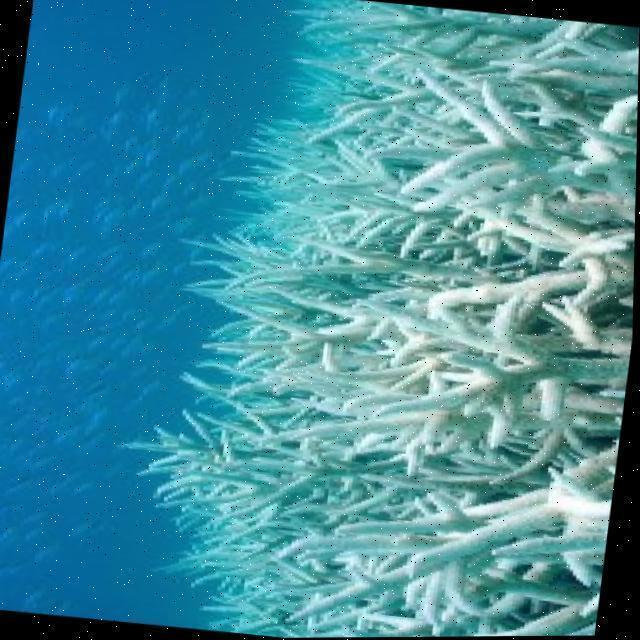Bleached Coral: (148, 0, 640, 639)
